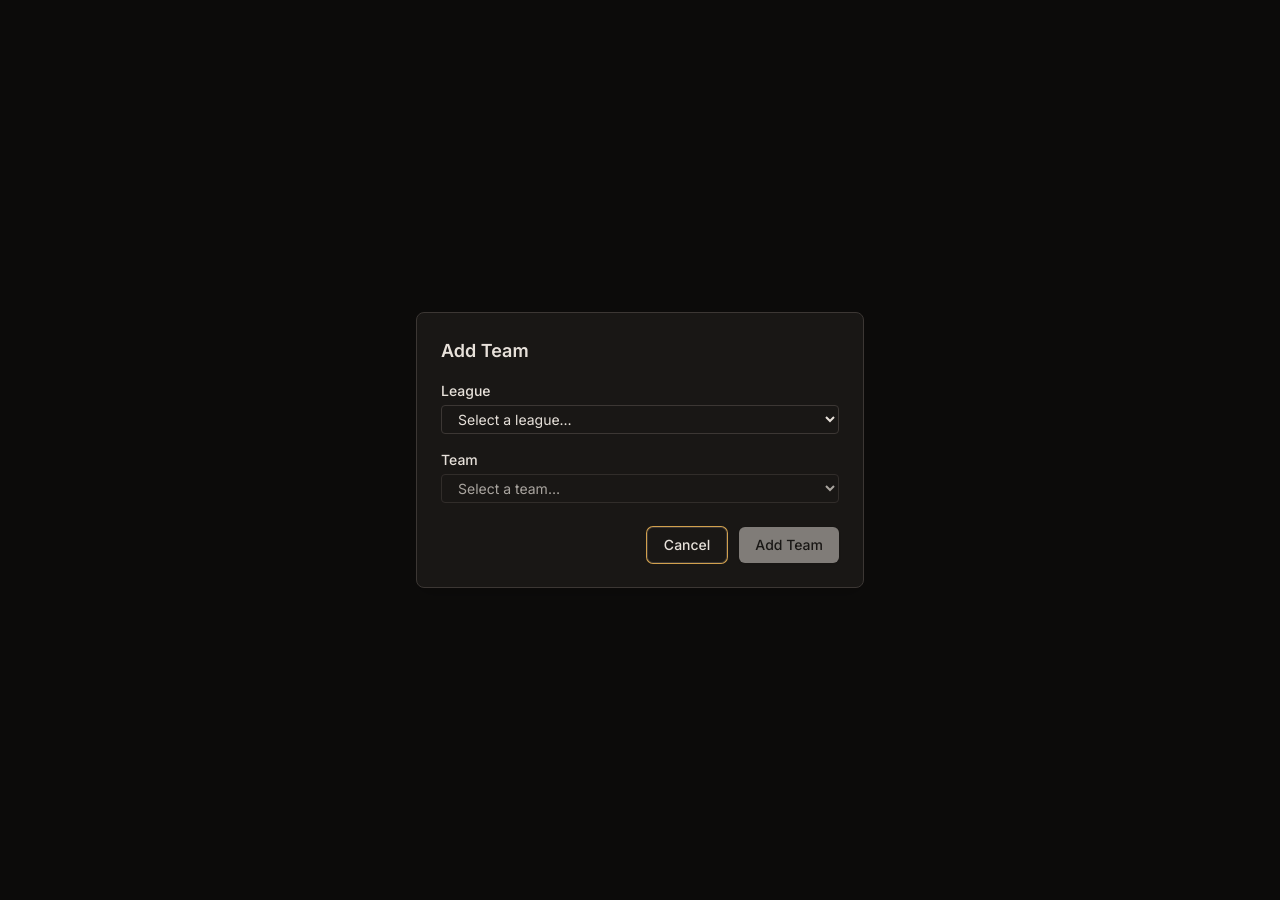
AddTeamDialog › Add Team button is disabled until both selections made
Check: the button "Add Team" is disabled, box [739,527,839,563]
Select "AL Catfish Hunter" in the dropdown labelled "League" at (640, 420), box [441,405,839,434]
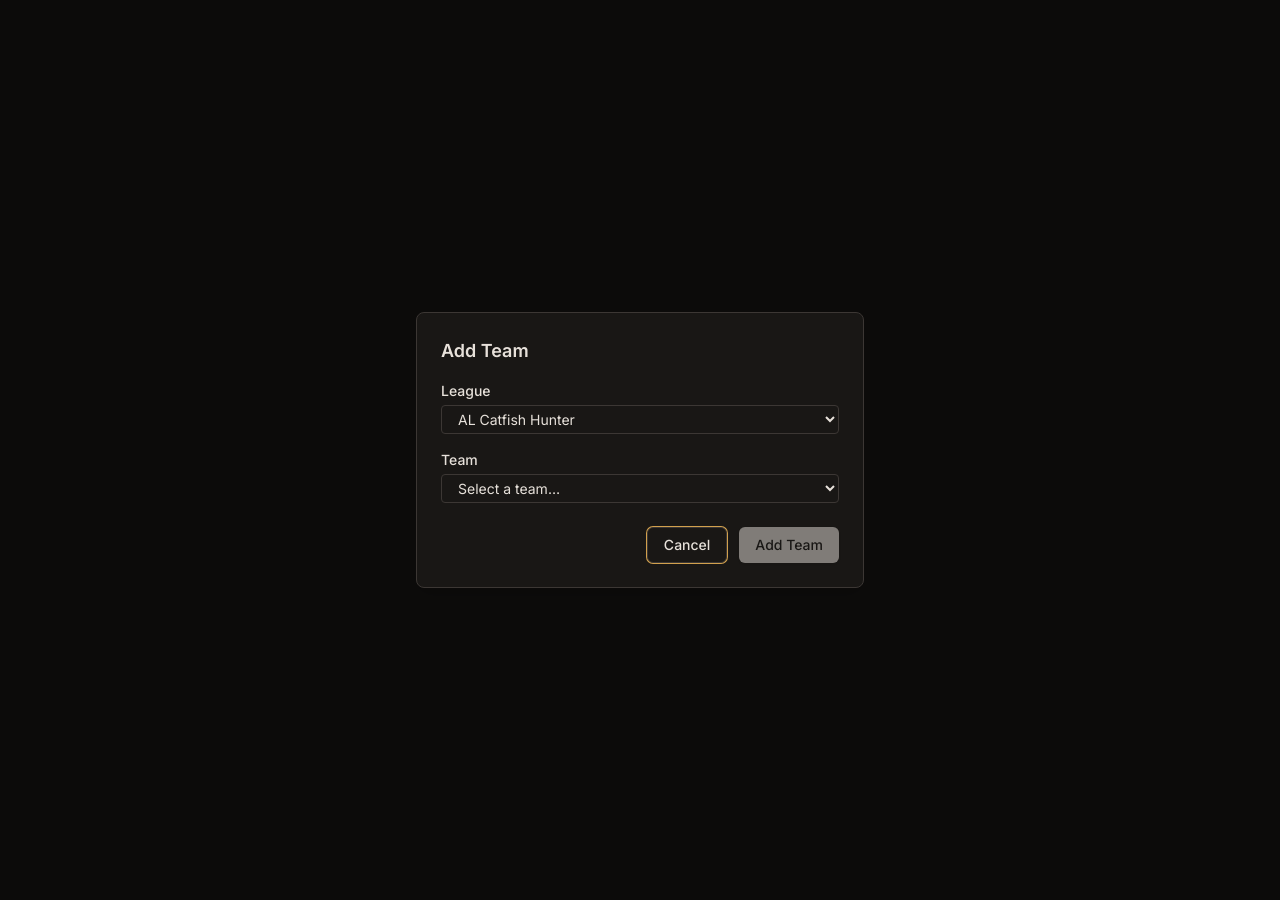
Check: the button "Add Team" is disabled, box [739,527,839,563]
Select "Team #1 — Owner One" in the dropdown labelled "Team" at (640, 488), box [441,474,839,503]
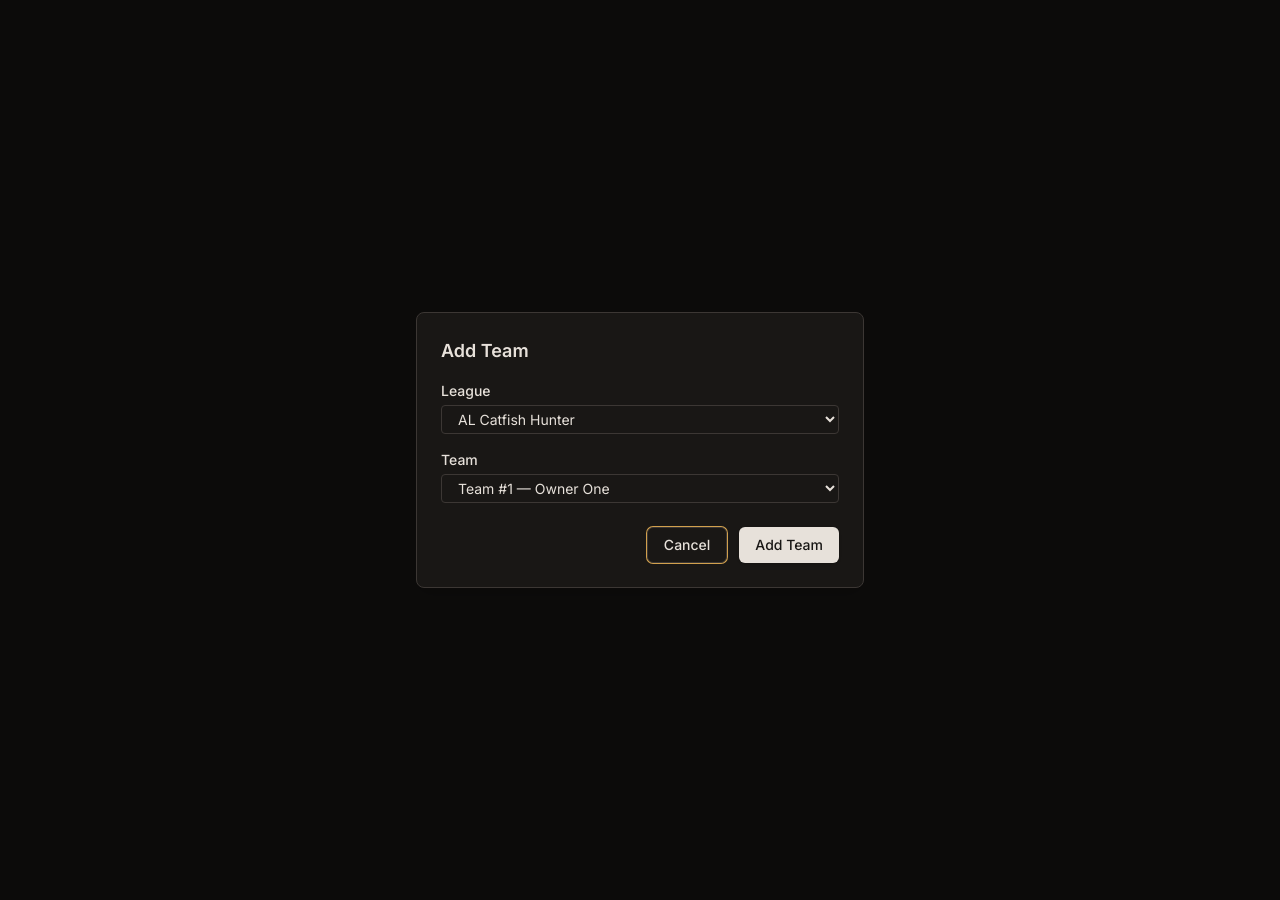
Check: the button "Add Team" is enabled, box [739,527,839,563]
